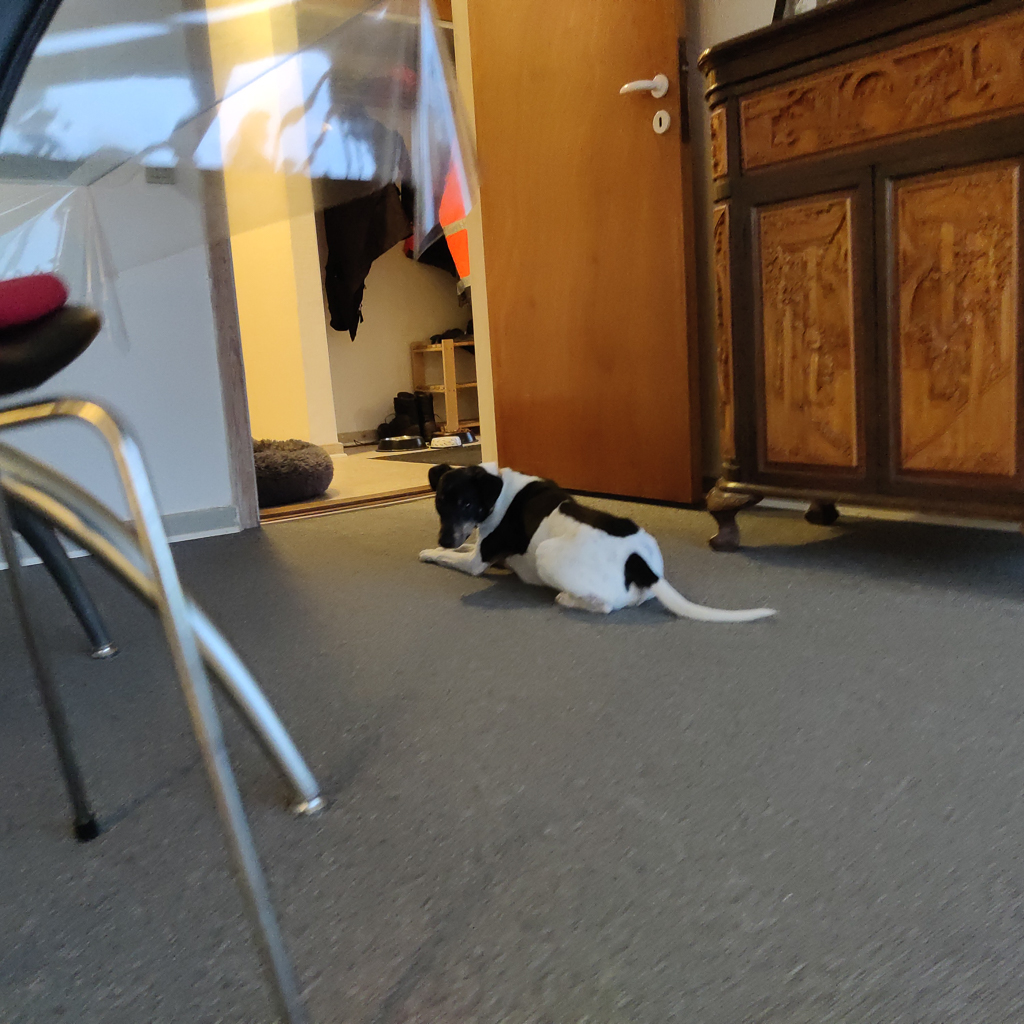Dog: (396, 454, 792, 632)
